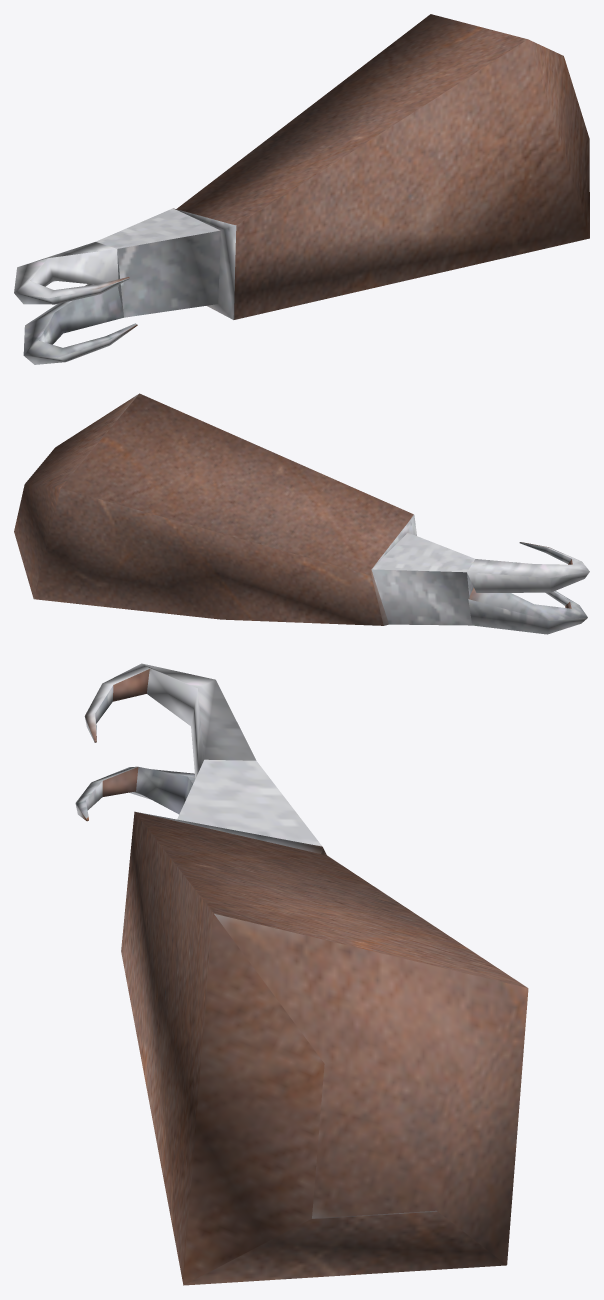
Rendered from hook.fbx.
3 views of the same model, one above another, from view 1: azimuth 30°, elevation 25°; view 2: azimuth 150°, elevation 25°; view 3: azimuth 270°, elevation 25° (orthographic). The views are drawn at different scales.
Visible parts, largest first — view 1: Body.001; view 2: Body.001; view 3: Body.001.
Part boxes in pixels (x1=…): Body.001: x1=14, y1=14, x2=589, y2=364; Body.001: x1=14, y1=393, x2=589, y2=634; Body.001: x1=75, y1=663, x2=528, y2=1285.
Bounding box in the file's own units: 1.91 × 0.5964 × 0.7405.
